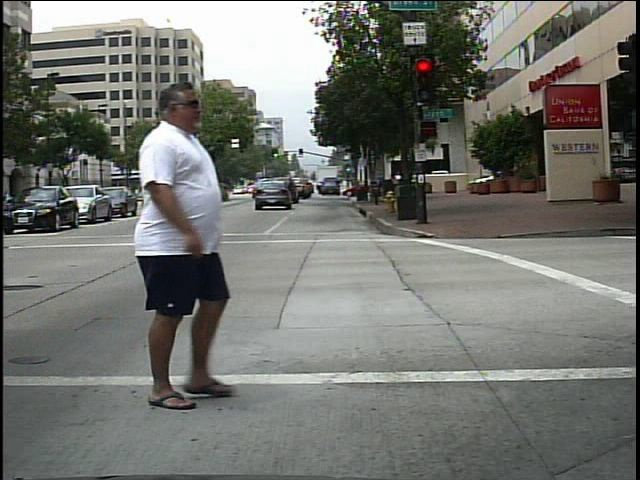person: (78, 78, 245, 414)
